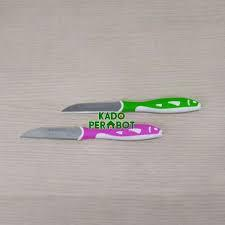knives: (17, 71, 207, 156)
